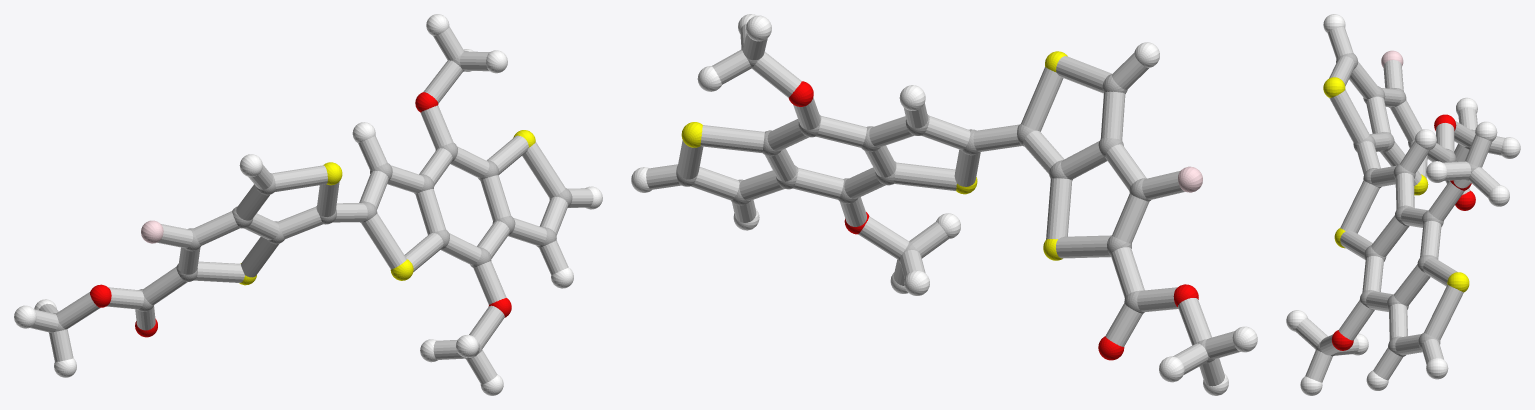
File: Dimethoxy_Benzodithiophene_Phi_10_Theta_290_Methylcarbonyl_3_Fluoro_Thienothiophene.glb
3 renders of one model, left to right at view 1: azimuth 30°, elevation 25°; view 2: azimuth 150°, elevation 25°; view 3: azimuth 270°, elevation 25°, orthographic. The views are drawn at different scales.
Visible parts, largest first — view 1: grp15205, grp8689, grp1, grp13395, grp7241; view 2: grp15205, grp8689, grp1, grp13395, grp7241; view 3: grp15205, grp8689, grp1, grp7241, grp13395, grp14843.
Part boxes in pixels (bbox=[...]): grp15205: bbox=[30, 26, 593, 384]; grp8689: bbox=[14, 14, 602, 395]; grp1: bbox=[53, 51, 572, 359]; grp13395: bbox=[90, 92, 511, 337]; grp7241: bbox=[239, 130, 535, 285]; grp15205: bbox=[646, 23, 1240, 386]; grp8689: bbox=[631, 14, 1257, 395]; grp1: bbox=[676, 46, 1214, 363]; grp13395: bbox=[788, 81, 1198, 360]; grp7241: bbox=[681, 51, 1067, 260]; grp15205: bbox=[1295, 27, 1504, 382]; grp8689: bbox=[1286, 14, 1520, 395]; grp1: bbox=[1316, 53, 1478, 356]; grp7241: bbox=[1323, 77, 1469, 292]; grp13395: bbox=[1331, 114, 1475, 350]; grp14843: bbox=[1381, 50, 1403, 67].
Size of the model in its own units: 17.05 by 8.68 by 6.36.
